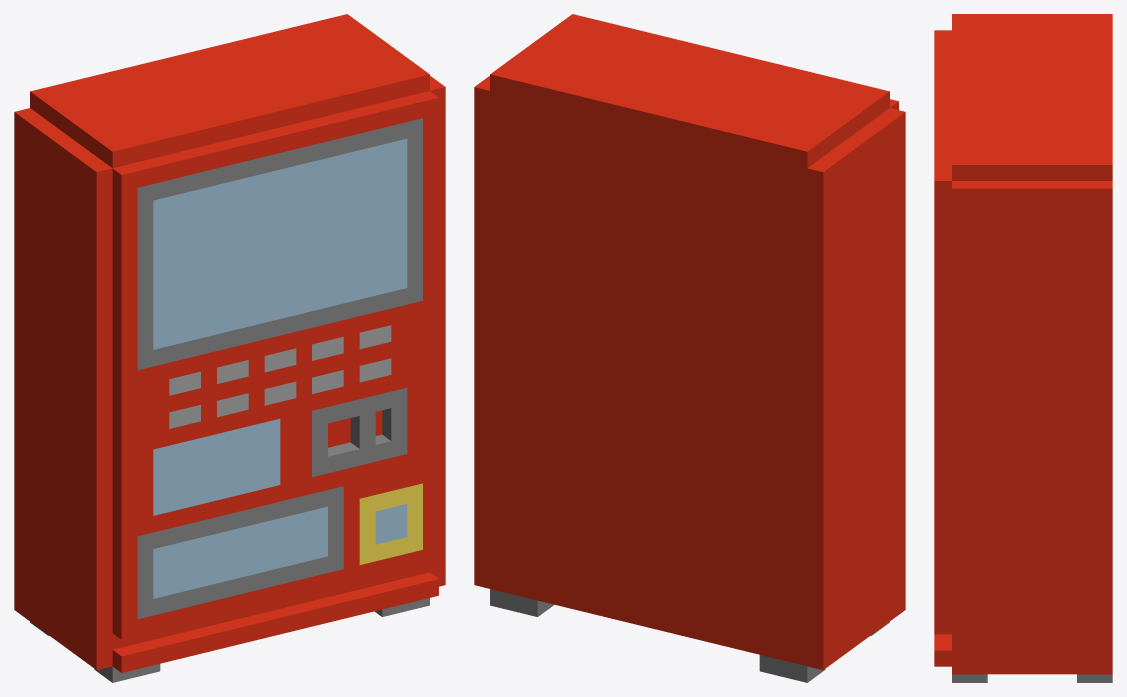
Rendered from vending_machine.fbx.
3 renders of one model, left to right at view 1: azimuth 30°, elevation 25°; view 2: azimuth 150°, elevation 25°; view 3: azimuth 270°, elevation 25°, orthographic. The views are drawn at different scales.
Parts seen in each view (by area): view 1: Body, Water, Light; view 2: Body; view 3: Body.
Part boxes in pixels (box(x1,y1,x2,y2)): Body: box(14, 14, 445, 682); Water: box(153, 138, 407, 598); Light: box(169, 325, 391, 428); Body: box(474, 14, 905, 682); Body: box(934, 14, 1112, 682).
Bounding box in the file's own units: 1.38 × 2 × 0.6251.
3 materials, 3 textured.
